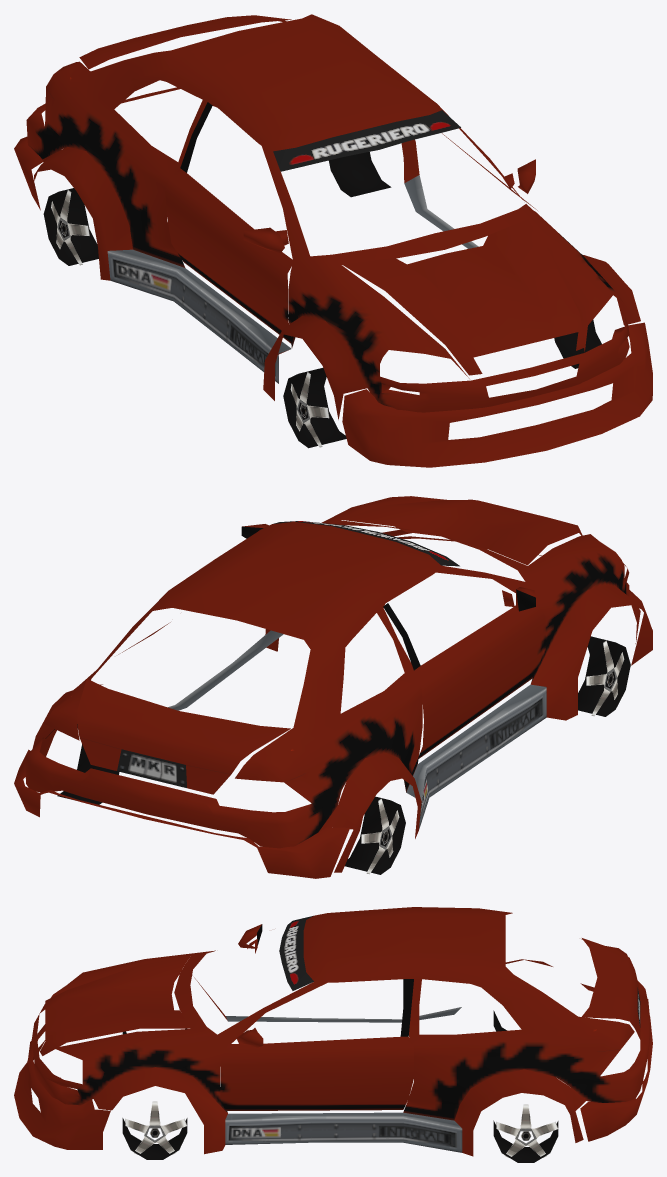
The model's file is car-COMP_Car5.glb.
The picture shows the model from 3 angles, top to bottom: view 1: azimuth 30°, elevation 25°; view 2: azimuth 150°, elevation 25°; view 3: azimuth 270°, elevation 25°; orthographic projection. The views are drawn at different scales.
Visible parts, largest first — view 1: COMP_Car5; view 2: COMP_Car5; view 3: COMP_Car5.
Part boxes in pixels (bbox=[...]): COMP_Car5: bbox=[14, 14, 652, 467]; COMP_Car5: bbox=[14, 496, 652, 878]; COMP_Car5: bbox=[14, 907, 652, 1162].
Bounding box in the file's own units: 2.05 × 1.33 × 4.34.
Materials: 19 (19 with a texture image).
